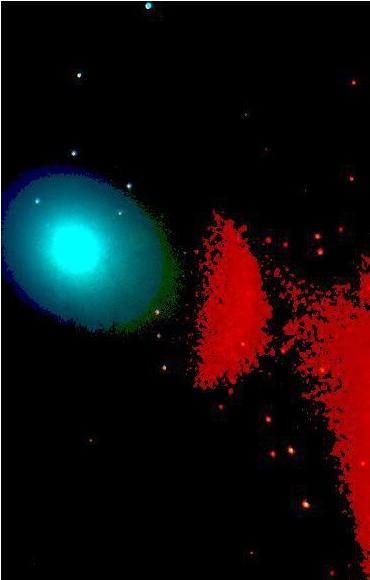star: (92, 224, 122, 254)
